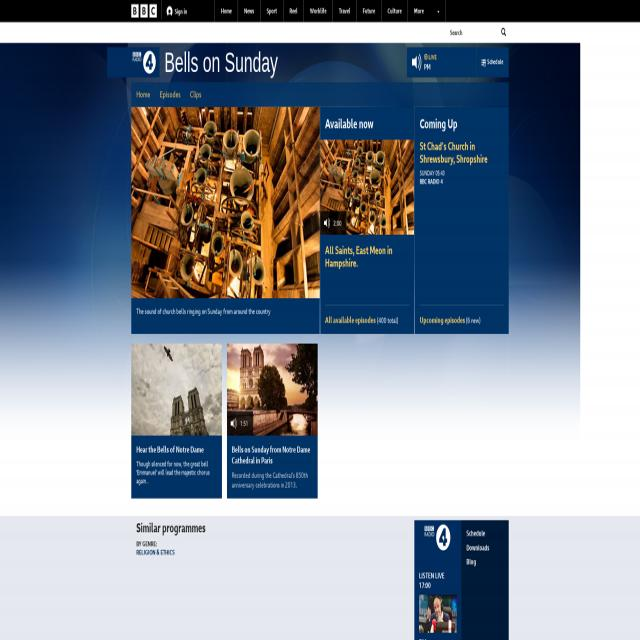button: (131, 107, 320, 298), (320, 140, 414, 234), (132, 344, 222, 436), (227, 344, 317, 436), (106, 44, 158, 76), (419, 596, 457, 634), (421, 520, 455, 554), (408, 0, 446, 22), (155, 82, 185, 106), (162, 0, 197, 20), (304, 0, 332, 22), (381, 0, 408, 22), (131, 82, 155, 106), (357, 0, 381, 22), (215, 0, 238, 22), (333, 0, 356, 22), (186, 82, 207, 106), (238, 0, 260, 22), (261, 0, 283, 22), (284, 0, 304, 22), (131, 4, 157, 18), (320, 211, 334, 235), (227, 411, 240, 436), (412, 54, 422, 70), (499, 26, 509, 39)
field: (448, 26, 499, 39)
